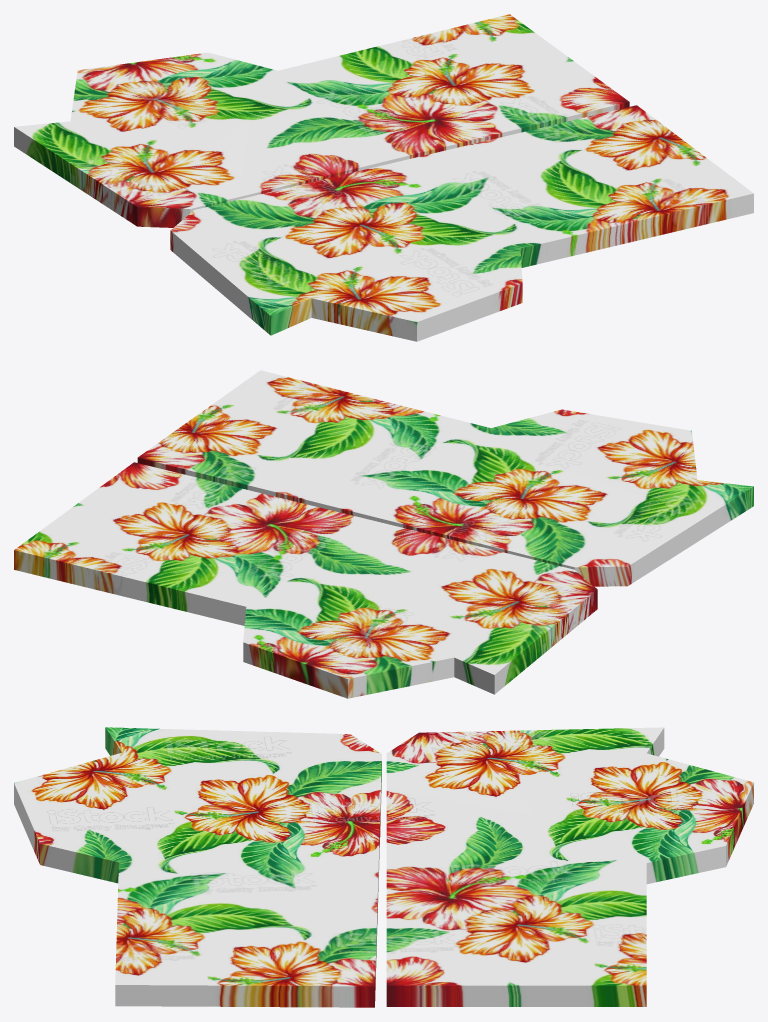
Rendered from hemd 1.fbx.
3 renders of one model, top to bottom at view 1: azimuth 30°, elevation 25°; view 2: azimuth 150°, elevation 25°; view 3: azimuth 270°, elevation 25°, orthographic. The views are drawn at different scales.
Visible parts, largest first — view 1: shirt; view 2: shirt; view 3: shirt.
Part boxes in pixels (<box>): shirt: <box>14,14,753,341</box>; shirt: <box>14,370,753,698</box>; shirt: <box>14,727,753,1007</box>.
Bounding box in the file's own units: 473 × 19.55 × 570.
1 material, 1 textured.
